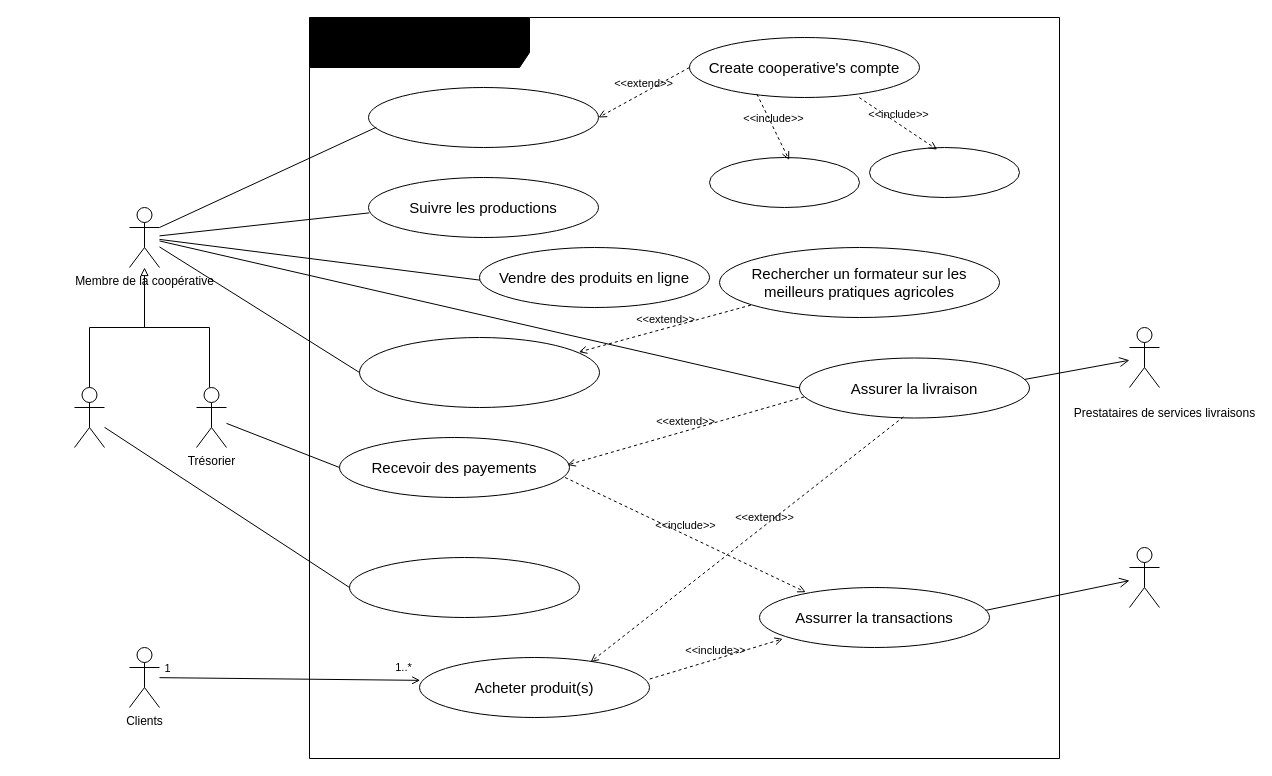
This 1272x776 diagram has some shape labels left out. The box of each missing label's shape, as (x1, y1, x2, y2) in pixels:
confidentialité: (868, 146, 1020, 198)
Gérer les membres de la coopérative: (348, 556, 580, 618)
Opérateur de téléphonie: (1128, 546, 1160, 608)
Président de la coopérative: (74, 386, 104, 448)
Se connecter: (368, 86, 598, 148)
Suivre une formation sur les meilleurs pratiques agricoles: (358, 336, 600, 408)
Visiter le menu d'aide: (708, 156, 860, 208)
